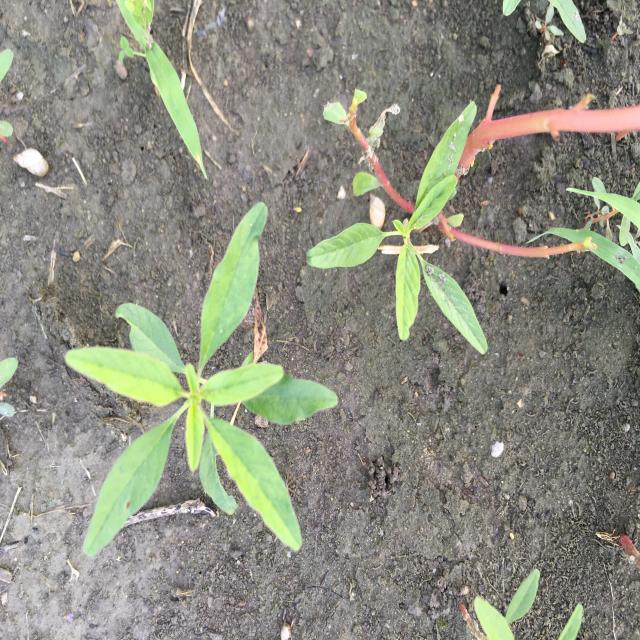Waterhemp: (63, 200, 340, 559), (304, 99, 489, 356)
